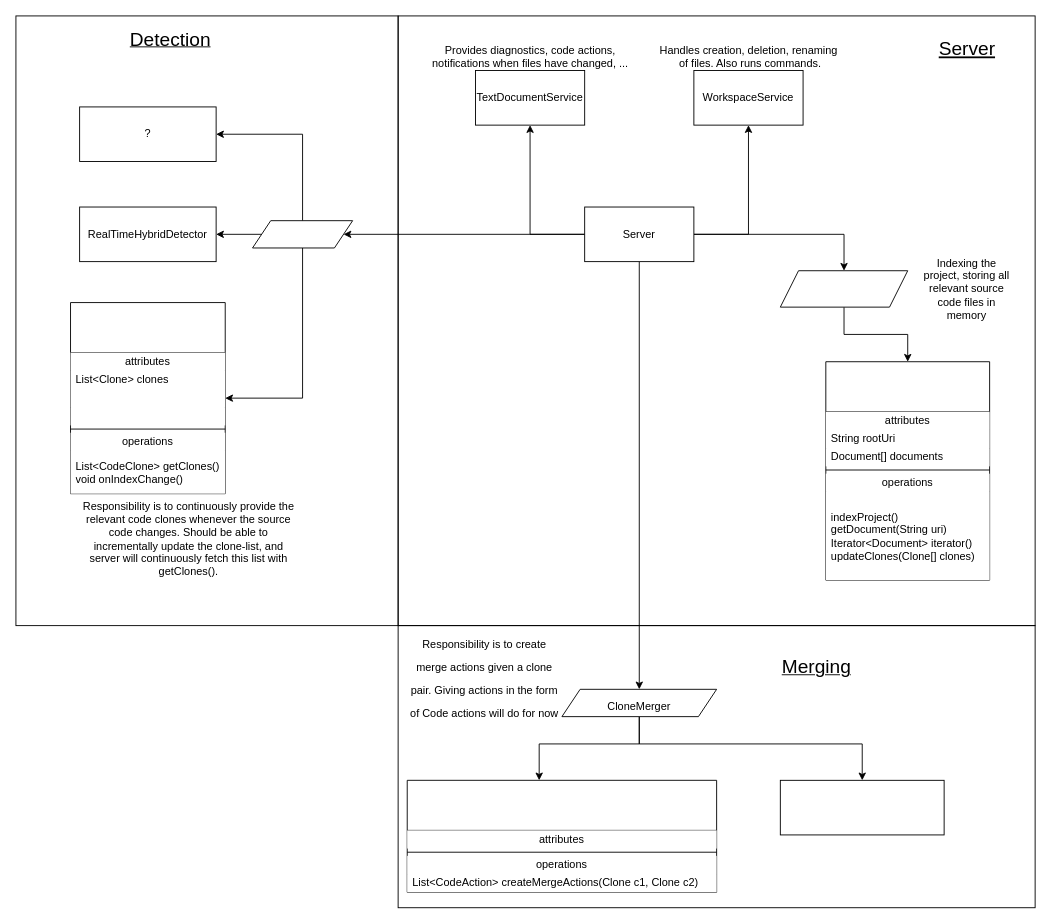
This 1051x924 diagram has some shape labels left out. The shapes that lost their labels are listed below. From the top down, each one's box as (x1, y1, x2, y2) in pixels, then its label:
(252, 220, 353, 248): CloneDetector
(779, 270, 908, 307): DocumentIndex
(70, 302, 225, 494): TokenBasedDetector
(825, 361, 990, 580): JavaIndex
(779, 779, 944, 835): RefactoringOrientedMerger
(406, 779, 717, 892): SimpleMerger
